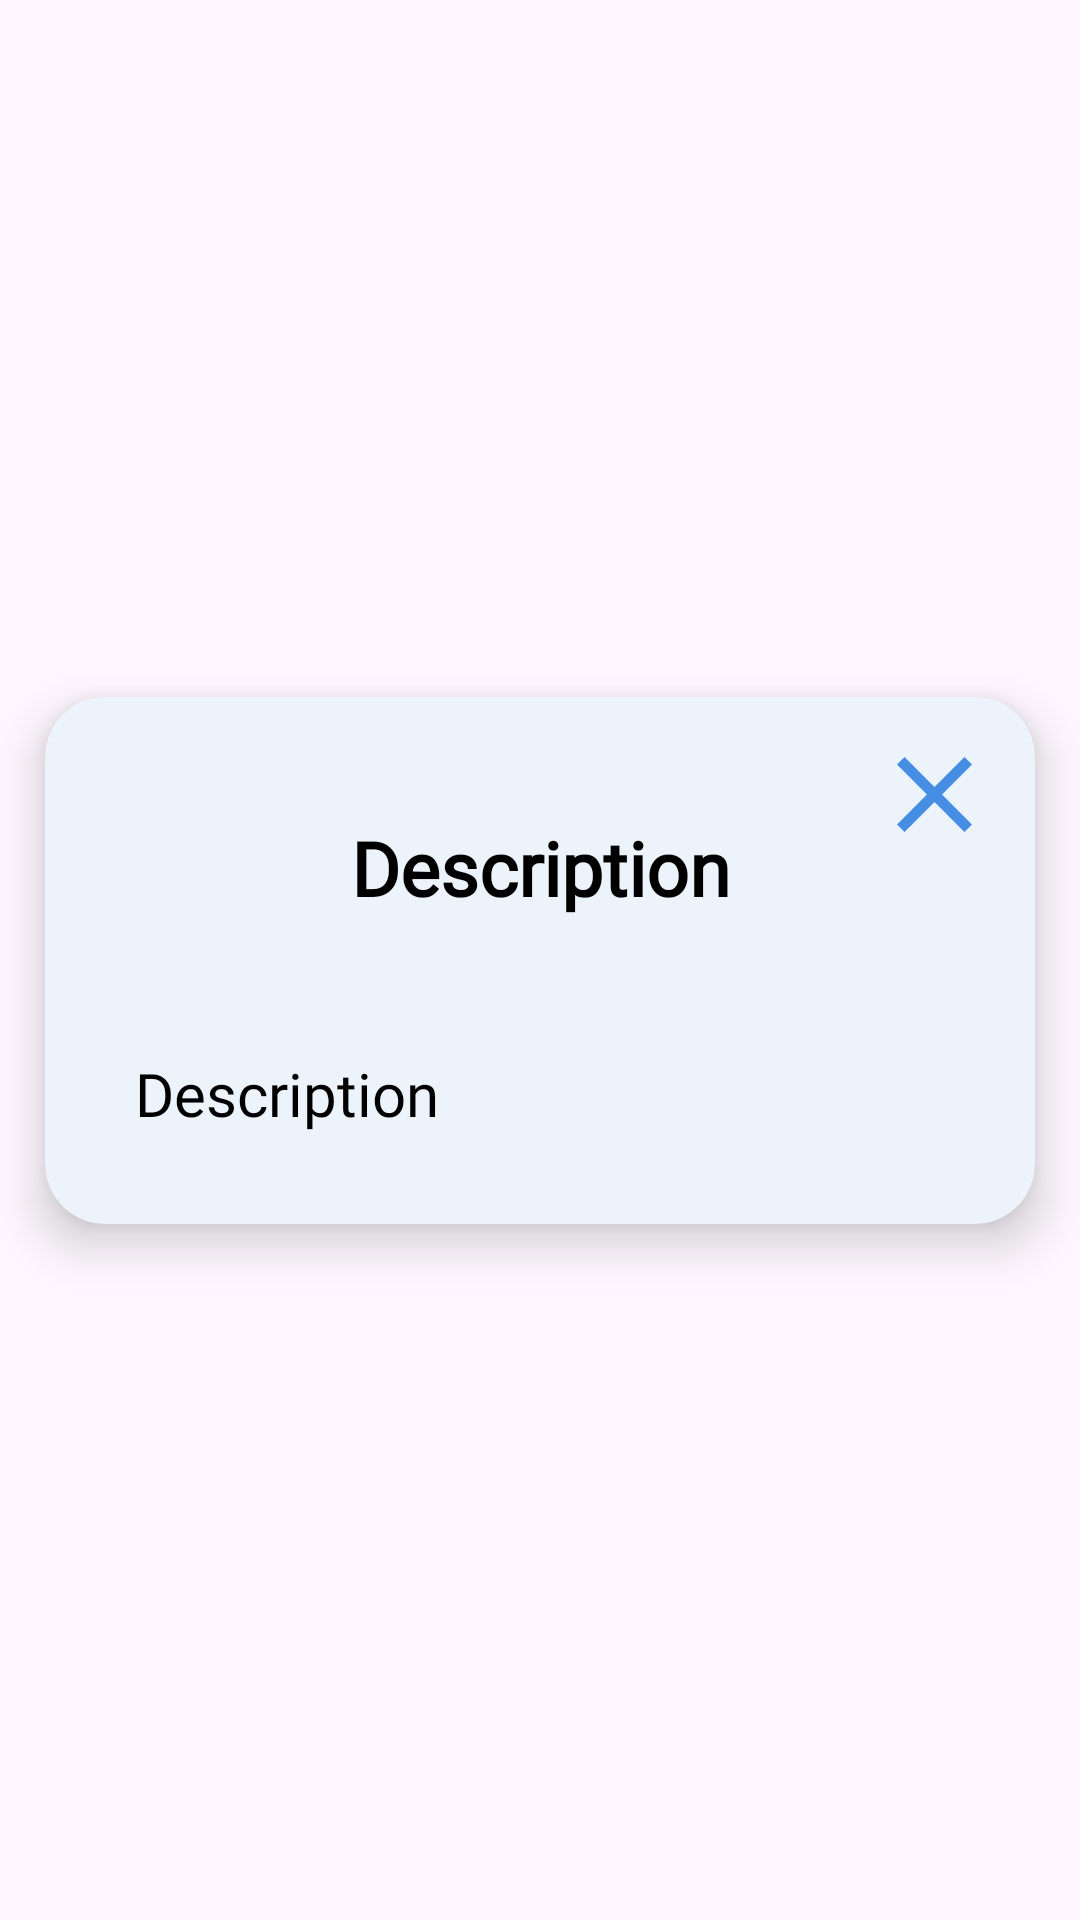

Screen size 1080*1920. Icon name, then its center in pixels as [x,y]:
close: [934,794]
